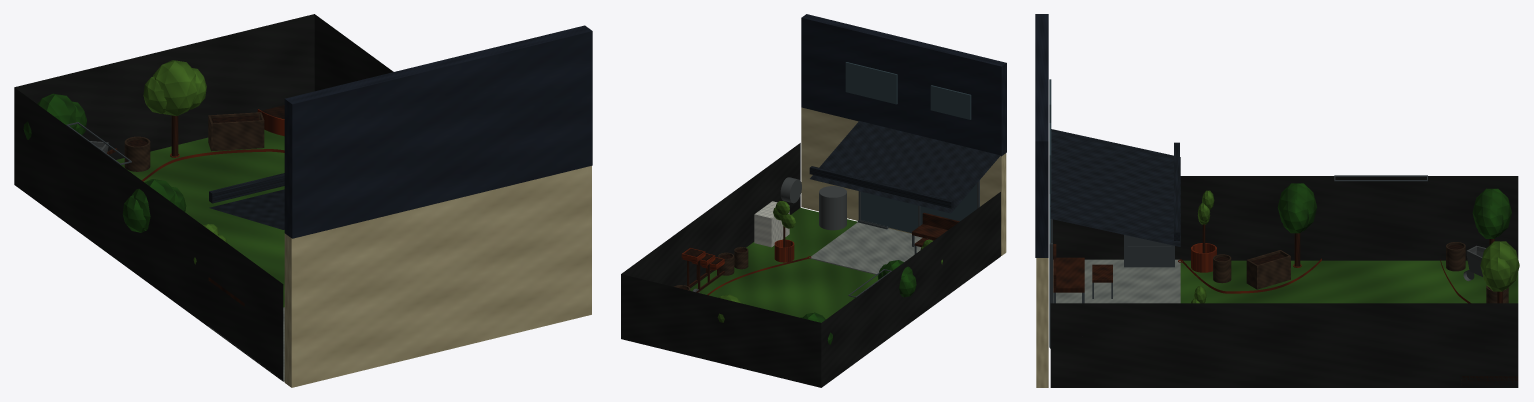
Rendered from garden_v0_18_primary_interactive_model_r3.glb.
The picture shows the model from 3 angles, left to right: view 1: azimuth 30°, elevation 25°; view 2: azimuth 150°, elevation 25°; view 3: azimuth 270°, elevation 25°; orthographic projection. The views are drawn at different scales.
Parts seen in each view (by area): view 1: V018_CONTEXT__HOUSE_LOWER_FACADE_APPROX, V018_CONTEXT__HOUSE_UPPER_FACADE_APPROX, EXISTING__FENCE_LEFT, EXISTING__FENCE_REAR, EXISTING__GROUND_DATUM, EXISTING__FENCE_RIGHT, V018_PROPOSED__MANDARIN_PROXY__CANOPY_A, EXISTING__PATIO_ROOF_APPROX, V010_R10_2_PART__T1__TROUGH_1__TROUGH_WALL_FRONT, V018_CONTEXT__PATIO_FASCIA_APPROX, V018_EXISTING__LEMON_PROXY__CANOPY_A, V010_R10_2_PART__P2__PLANTER_2__CONTAINER (+3 smaller); view 2: V018_CONTEXT__HOUSE_UPPER_FACADE_APPROX, EXISTING__FENCE_REAR, EXISTING__FENCE_LEFT, EXISTING__PATIO_ROOF_APPROX, EXISTING__GROUND_DATUM, EXISTING__FENCE_RIGHT, V018_CONTEXT__HOUSE_LOWER_FACADE_APPROX, EXISTING__PATIO, V018_CONTEXT__SLIDING_GLASS_APPROX, V018_CONTEXT__UPPER_WINDOW_RIGHT, V018_CONTEXT__PATIO_FASCIA_APPROX, V010_R5_APPROVED__WF__WORM (+7 smaller); view 3: EXISTING__FENCE_RIGHT, EXISTING__FENCE_LEFT, EXISTING__PATIO_ROOF_APPROX, EXISTING__GROUND_DATUM, EXISTING__PATIO, V018_CONTEXT__HOUSE_UPPER_FACADE_APPROX, V018_CONTEXT__HOUSE_LOWER_FACADE_APPROX, V010_R10_2_PART__WK__WORK__CABINET, V010_R10_2_PART__LS__LOUNGE__SEAT, V018_PROPOSED__MANDARIN_PROXY__CANOPY_A, V018_EXISTING__LEMON_PROXY__CANOPY_A, V018_EXISTING__LIME_PROXY__CANOPY_A (+9 smaller).
Part boxes in pixels (x1=…): V018_CONTEXT__HOUSE_LOWER_FACADE_APPROX: x1=284, y1=166, x2=591, y2=387; V018_CONTEXT__HOUSE_UPPER_FACADE_APPROX: x1=284, y1=25, x2=592, y2=238; EXISTING__FENCE_LEFT: x1=14, y1=87, x2=283, y2=381; EXISTING__FENCE_REAR: x1=14, y1=14, x2=314, y2=159; EXISTING__GROUND_DATUM: x1=116, y1=129, x2=284, y2=307; EXISTING__FENCE_RIGHT: x1=314, y1=14, x2=393, y2=91; V018_PROPOSED__MANDARIN_PROXY__CANOPY_A: x1=152, y1=60, x2=196, y2=115; EXISTING__PATIO_ROOF_APPROX: x1=209, y1=189, x2=284, y2=229; V010_R10_2_PART__T1__TROUGH_1__TROUGH_WALL_FRONT: x1=213, y1=120, x2=262, y2=150; V018_CONTEXT__PATIO_FASCIA_APPROX: x1=209, y1=173, x2=284, y2=203; V018_EXISTING__LEMON_PROXY__CANOPY_A: x1=37, y1=93, x2=77, y2=129; V010_R10_2_PART__P2__PLANTER_2__CONTAINER: x1=124, y1=136, x2=150, y2=171; V018_CONTEXT__HOUSE_UPPER_FACADE_APPROX: x1=801, y1=14, x2=1006, y2=156; EXISTING__FENCE_REAR: x1=621, y1=274, x2=821, y2=387; EXISTING__FENCE_LEFT: x1=821, y1=192, x2=1000, y2=387; EXISTING__PATIO_ROOF_APPROX: x1=810, y1=121, x2=1000, y2=213; EXISTING__GROUND_DATUM: x1=690, y1=207, x2=878, y2=319; EXISTING__FENCE_RIGHT: x1=621, y1=143, x2=800, y2=288; V018_CONTEXT__HOUSE_LOWER_FACADE_APPROX: x1=801, y1=107, x2=1006, y2=255; EXISTING__PATIO: x1=810, y1=222, x2=1000, y2=274; V018_CONTEXT__SLIDING_GLASS_APPROX: x1=861, y1=184, x2=976, y2=233; V018_CONTEXT__UPPER_WINDOW_RIGHT: x1=845, y1=62, x2=897, y2=104; V018_CONTEXT__PATIO_FASCIA_APPROX: x1=809, y1=166, x2=953, y2=208; V010_R5_APPROVED__WF__WORM: x1=819, y1=186, x2=846, y2=230; EXISTING__FENCE_RIGHT: x1=1050, y1=303, x2=1518, y2=387; EXISTING__FENCE_LEFT: x1=1053, y1=176, x2=1518, y2=260; EXISTING__PATIO_ROOF_APPROX: x1=1050, y1=129, x2=1180, y2=246; EXISTING__GROUND_DATUM: x1=1180, y1=260, x2=1518, y2=303; EXISTING__PATIO: x1=1053, y1=259, x2=1180, y2=303; V018_CONTEXT__HOUSE_UPPER_FACADE_APPROX: x1=1035, y1=14, x2=1048, y2=257; V018_CONTEXT__HOUSE_LOWER_FACADE_APPROX: x1=1036, y1=258, x2=1048, y2=387; V010_R10_2_PART__WK__WORK__CABINET: x1=1124, y1=235, x2=1174, y2=267; V010_R10_2_PART__LS__LOUNGE__SEAT: x1=1053, y1=257, x2=1084, y2=292; V018_PROPOSED__MANDARIN_PROXY__CANOPY_A: x1=1480, y1=241, x2=1519, y2=289; V018_EXISTING__LEMON_PROXY__CANOPY_A: x1=1472, y1=188, x2=1511, y2=236; V018_EXISTING__LIME_PROXY__CANOPY_A: x1=1277, y1=183, x2=1317, y2=231.
Size of the model in its own units: 6.08 by 5.24 by 9.33.
16 materials, 13 textured.
